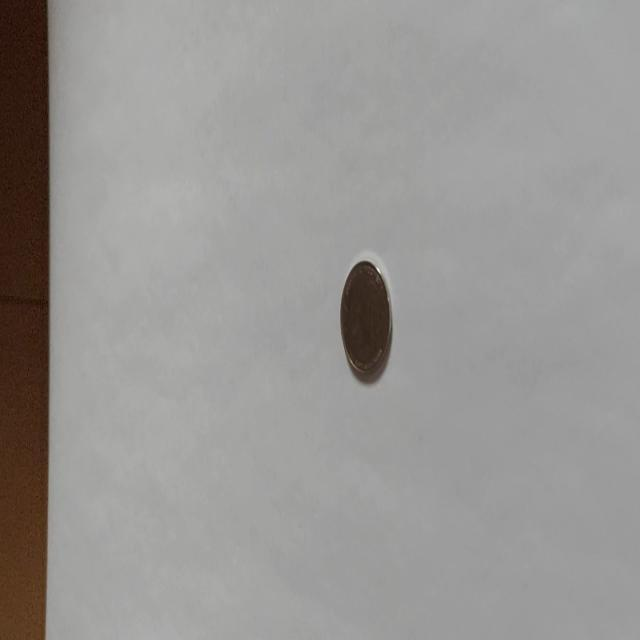seribu rupiah koin: (338, 255, 394, 381)
